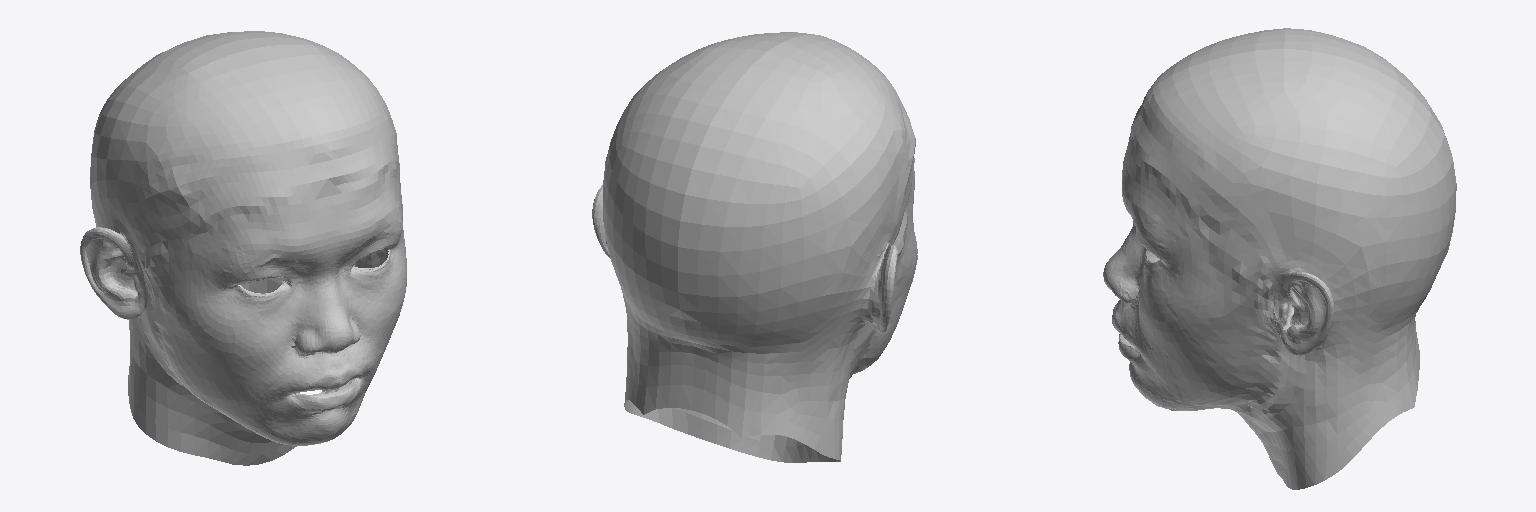
The picture shows the model from 3 angles: view 1: azimuth 30°, elevation 25°; view 2: azimuth 150°, elevation 25°; view 3: azimuth 270°, elevation 25°; orthographic projection.
Parts seen in each view (by area): view 1: ZBrush_defualt_group; view 2: ZBrush_defualt_group; view 3: ZBrush_defualt_group.
Part boxes in pixels (left/top/right/bottom): ZBrush_defualt_group: left=80, top=31, right=406, bottom=465; ZBrush_defualt_group: left=592, top=32, right=917, bottom=462; ZBrush_defualt_group: left=1103, top=28, right=1456, bottom=489.
Size of the model in its own units: 212 by 278 by 216.